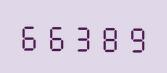eight: (96, 20, 121, 53)
nine: (122, 20, 147, 54)
six: (18, 18, 43, 52), (44, 19, 69, 52)
three: (70, 19, 95, 53)
